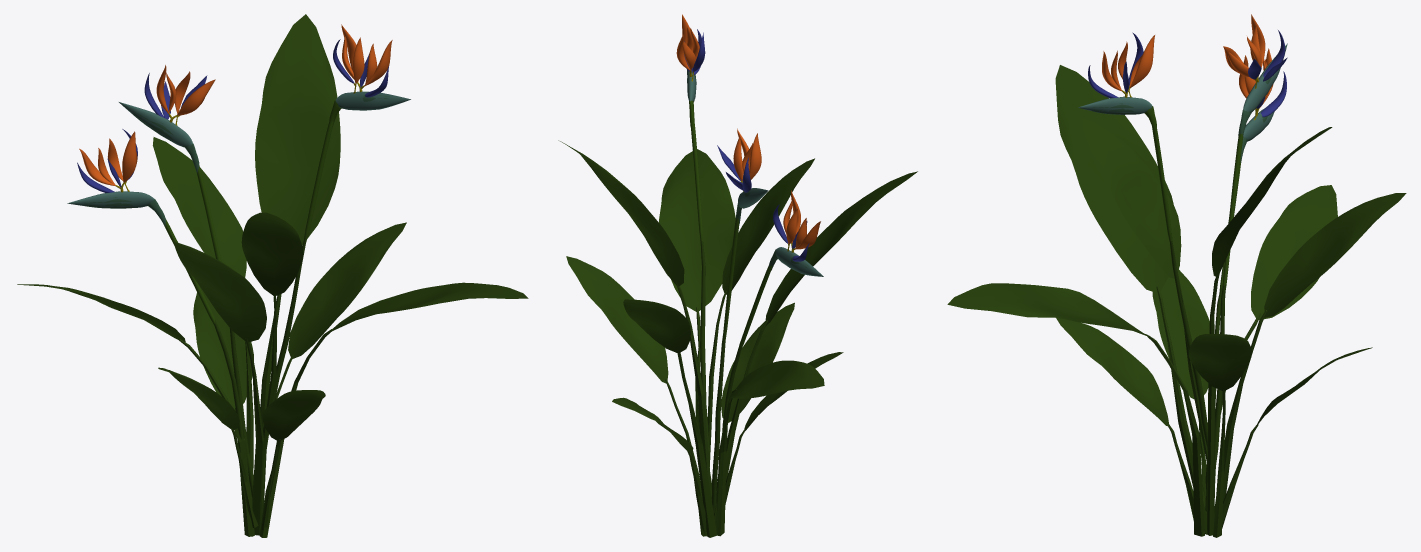
Rendered from Paradise.glb.
3 views of the same model, side by side, from view 1: azimuth 30°, elevation 25°; view 2: azimuth 150°, elevation 25°; view 3: azimuth 270°, elevation 25° (orthographic). The views are drawn at different scales.
Visible parts, largest first — view 1: paradise_obj; view 2: paradise_obj; view 3: paradise_obj.
Boxes of the visible parts, <box> form: paradise_obj: <box>17,14,528,537</box>; paradise_obj: <box>558,14,917,537</box>; paradise_obj: <box>947,14,1406,537</box>.
Bounding box in the file's own units: 2.34 × 3.4 × 2.68.
